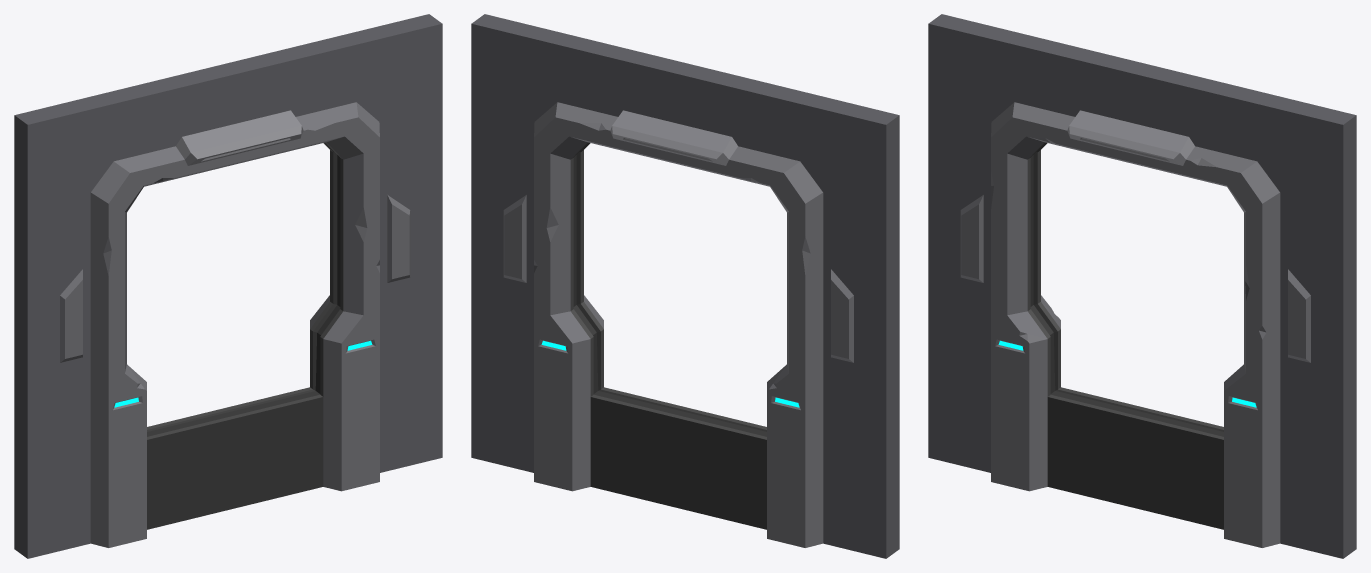
File: SM_Bld_Wall_Doorframe_02.fbx
3 renders of one model, left to right at view 1: azimuth 30°, elevation 25°; view 2: azimuth 150°, elevation 25°; view 3: azimuth 330°, elevation 25°, orthographic.
Parts seen in each view (by area): view 1: SM_Bld_Wall_Doorframe_02_LOD0; view 2: SM_Bld_Wall_Doorframe_02_LOD0; view 3: SM_Bld_Wall_Doorframe_02_LOD0.
Boxes of the visible parts, left/top/right/bottom form: SM_Bld_Wall_Doorframe_02_LOD0: left=14, top=14, right=442, bottom=558; SM_Bld_Wall_Doorframe_02_LOD0: left=471, top=14, right=899, bottom=558; SM_Bld_Wall_Doorframe_02_LOD0: left=928, top=14, right=1356, bottom=558.
Size of the model in its own units: 87.11 by 500 by 500.
Materials: 1 (1 with a texture image).
